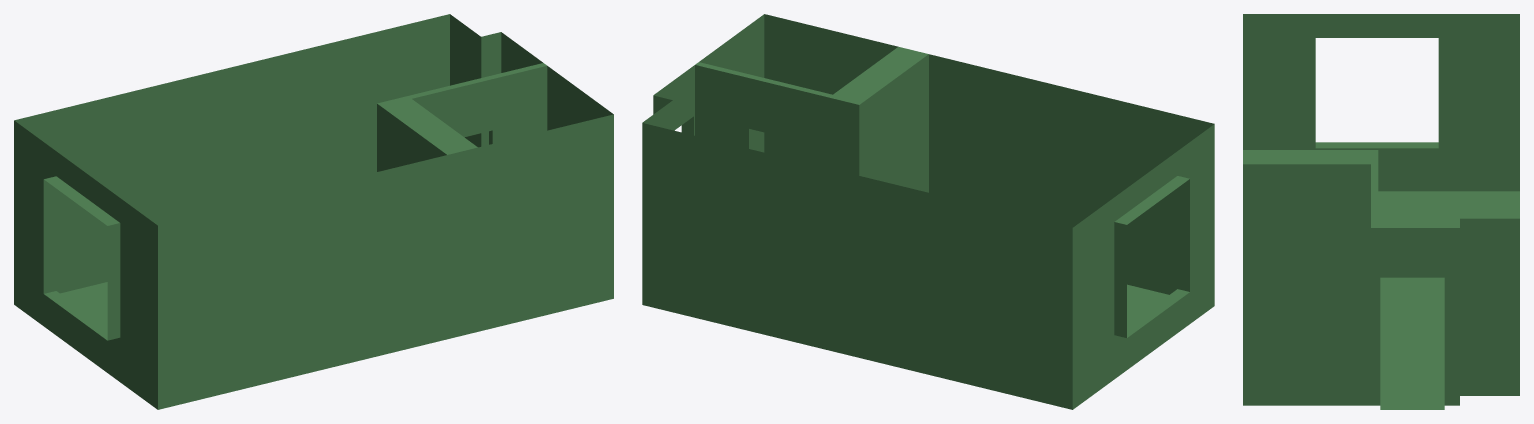
Rendered from Rooms_A_1_3_32.FBX.
3 views of the same model, side by side, from view 1: azimuth 30°, elevation 25°; view 2: azimuth 150°, elevation 25°; view 3: azimuth 270°, elevation 25° (orthographic). The views are drawn at different scales.
Parts seen in each view (by area): view 1: Rooms_A_1_3_32; view 2: Rooms_A_1_3_32; view 3: Rooms_A_1_3_32.
Part boxes in pixels (box(x1,y1,x2,y2)): Rooms_A_1_3_32: box(14, 14, 613, 409); Rooms_A_1_3_32: box(642, 14, 1214, 409); Rooms_A_1_3_32: box(1243, 14, 1519, 409).
Bounding box in the file's own units: 7.65 × 2.8 × 3.96.
